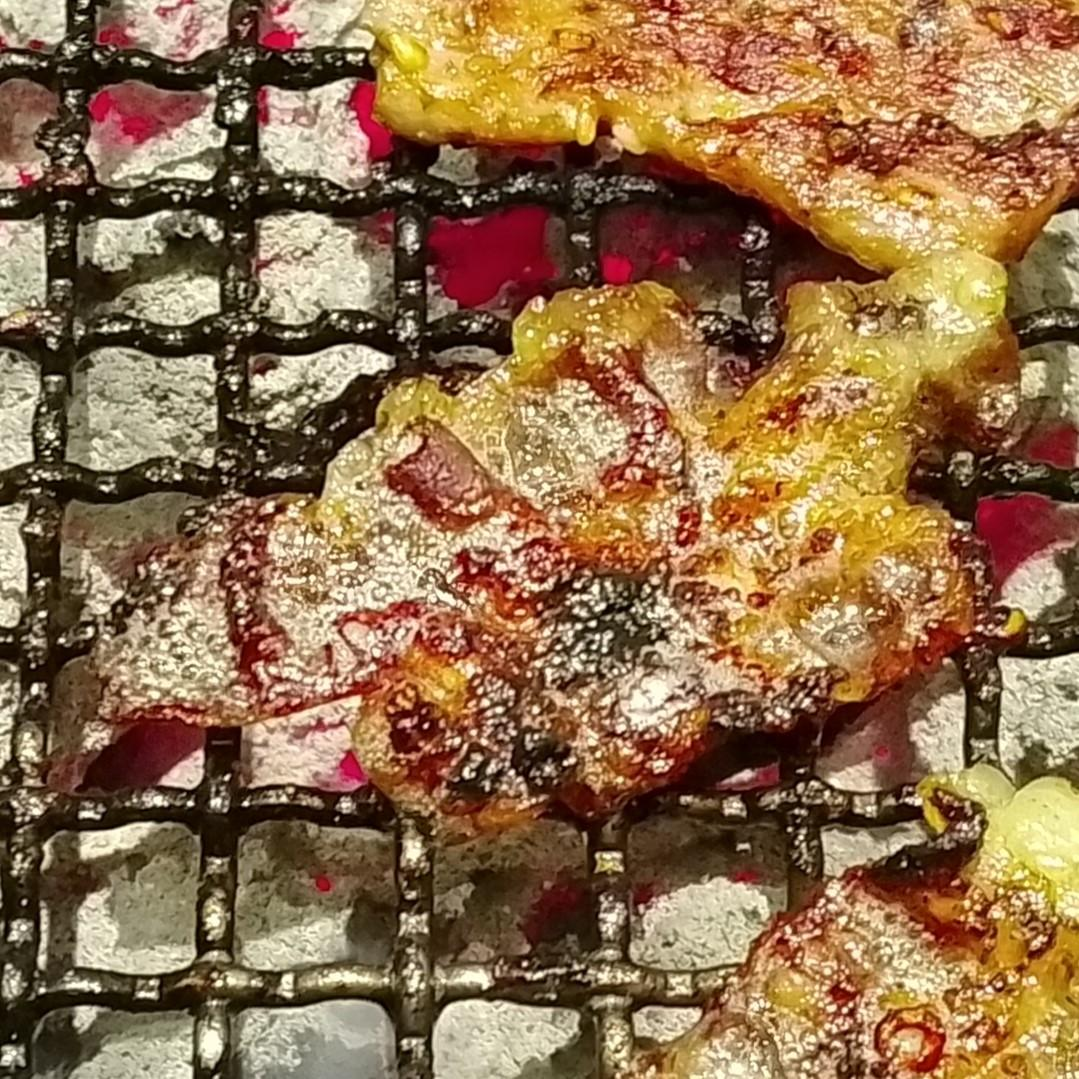Overcooked: (95, 247, 1020, 840), (650, 766, 1078, 1078)
Well-Cooked: (357, 0, 1078, 277)
